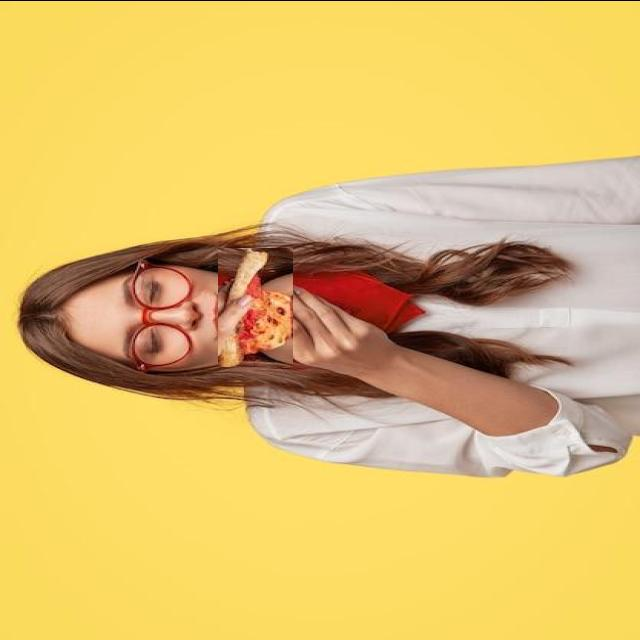pizza: (218, 247, 293, 366)
